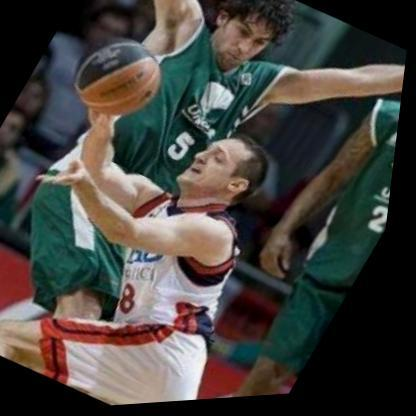basketball: (52, 17, 186, 143)
